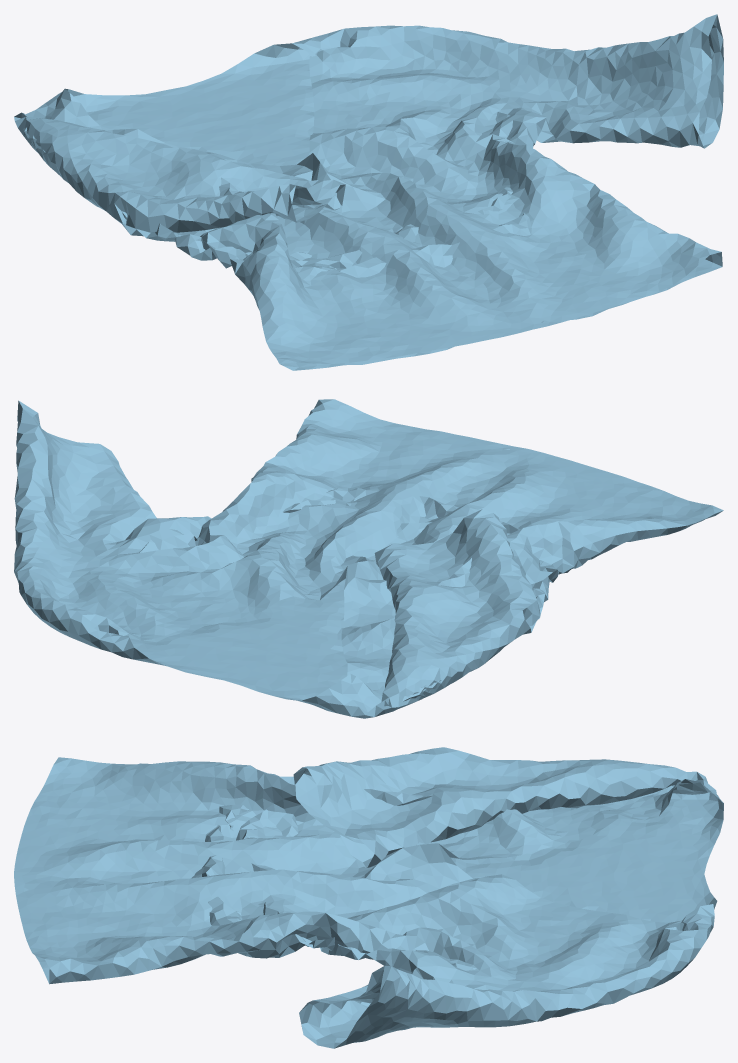
Rendered from frame_03.glb.
3 views of the same model, one above another, from view 1: azimuth 30°, elevation 25°; view 2: azimuth 150°, elevation 25°; view 3: azimuth 270°, elevation 25° (orthographic). The views are drawn at different scales.
Visible parts, largest first — view 1: frame_03.obj; view 2: frame_03.obj; view 3: frame_03.obj.
Boxes of the visible parts, bbox=[...] form: frame_03.obj: bbox=[14, 14, 723, 370]; frame_03.obj: bbox=[14, 399, 723, 718]; frame_03.obj: bbox=[14, 747, 723, 1048].
Bounding box in the file's own units: 1.59 × 0.2563 × 1.58.
